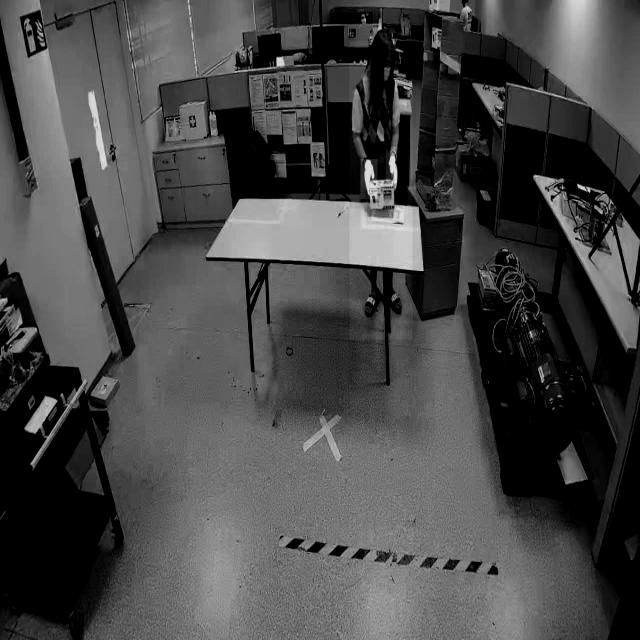face_mask: (380, 60, 394, 90)
hand_glove: (360, 159, 378, 199), (386, 147, 398, 183)
head_nohelmet: (373, 28, 395, 50), (359, 9, 365, 13)
person: (349, 41, 413, 340)
